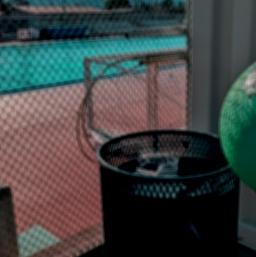algae: (217, 40, 256, 200)
